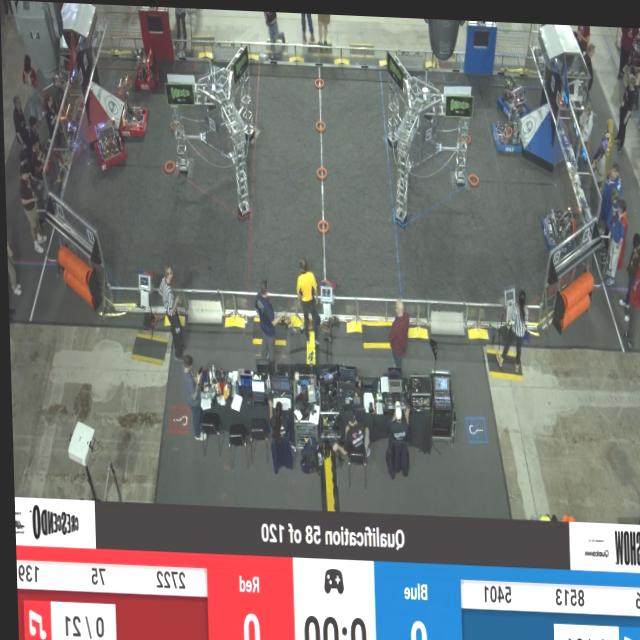Robot: (116, 70, 150, 146), (538, 195, 578, 254), (90, 113, 127, 175), (494, 65, 530, 122), (490, 108, 527, 160), (132, 39, 161, 95)
